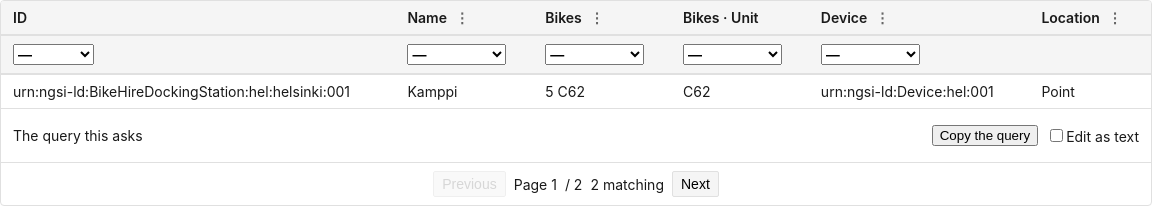
Test case: EntityGrid › uncontrolled works without state props
Expected: the text "Kamppi" is shown, [395,74,533,108]
// pager works
Click the button "Next". click: (695, 184)
box: [672,171,719,197]
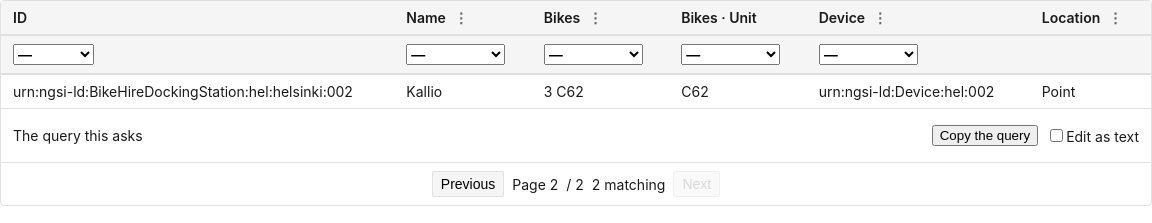
Expected: the text "Page 2" is shown, [512,176,558,192]
